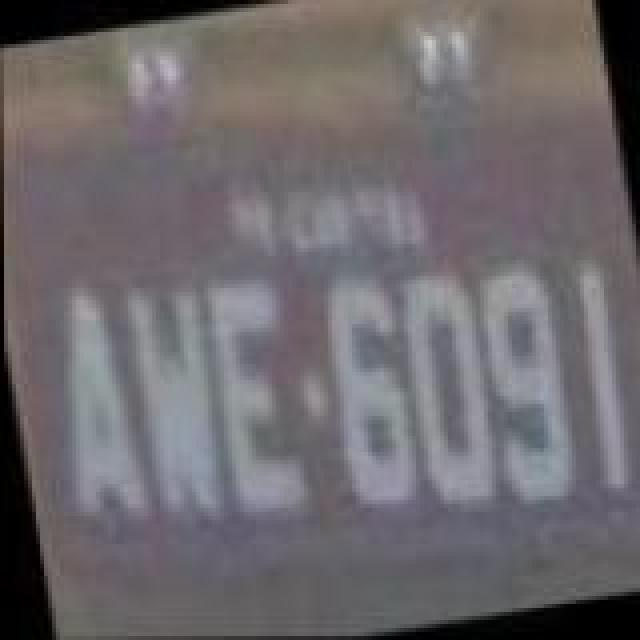1: (572, 260, 640, 492)
6: (314, 268, 426, 512)
9: (468, 258, 584, 510)
A: (34, 280, 154, 528)
E: (198, 272, 310, 520)
O: (386, 262, 506, 514)
W: (116, 276, 232, 528)
